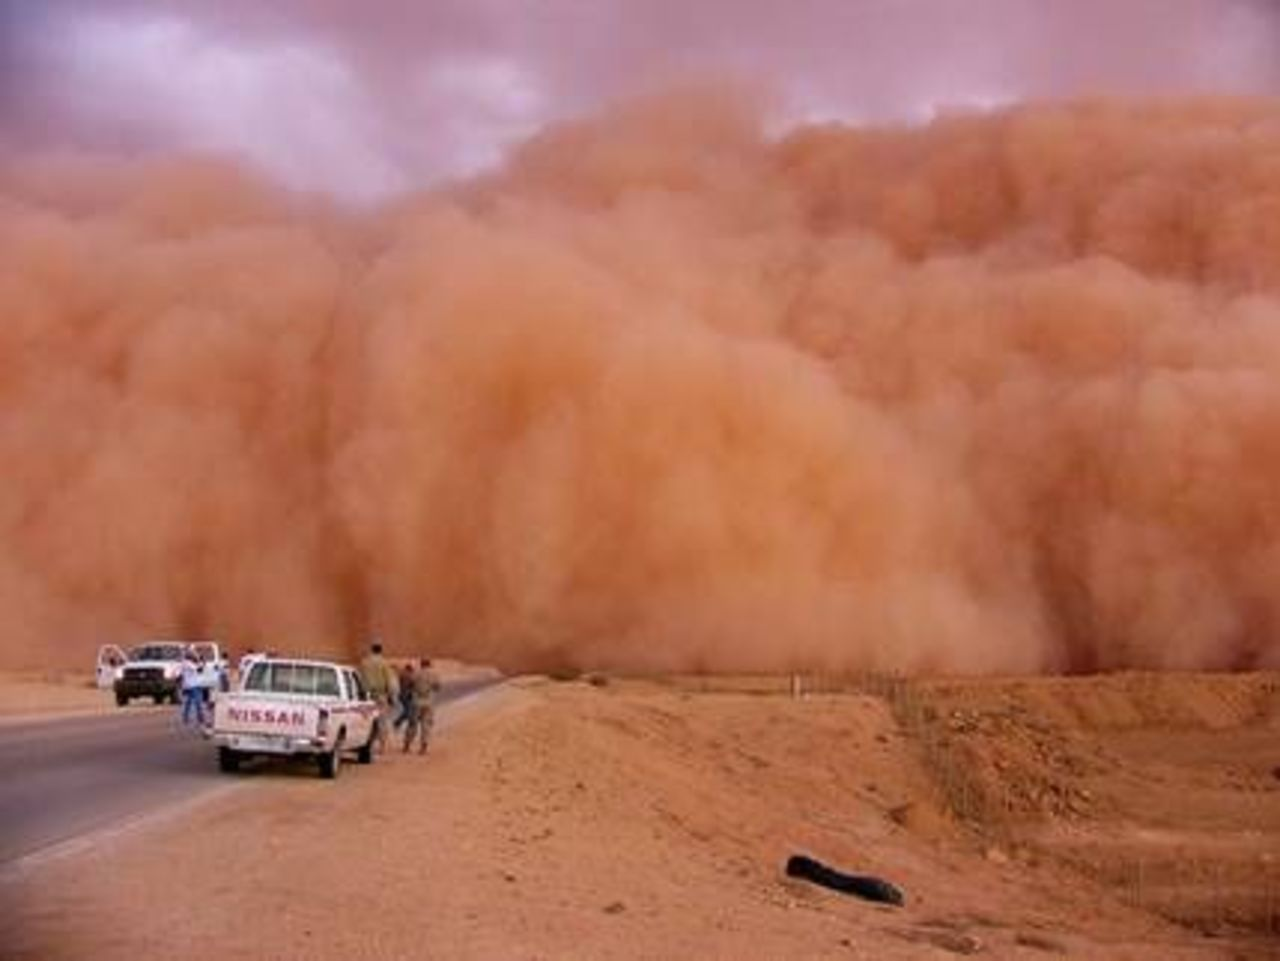car: (116, 639, 219, 706)
person: (363, 639, 396, 761), (182, 635, 213, 735), (404, 652, 434, 752), (397, 651, 415, 743)
truck: (208, 654, 382, 778)
